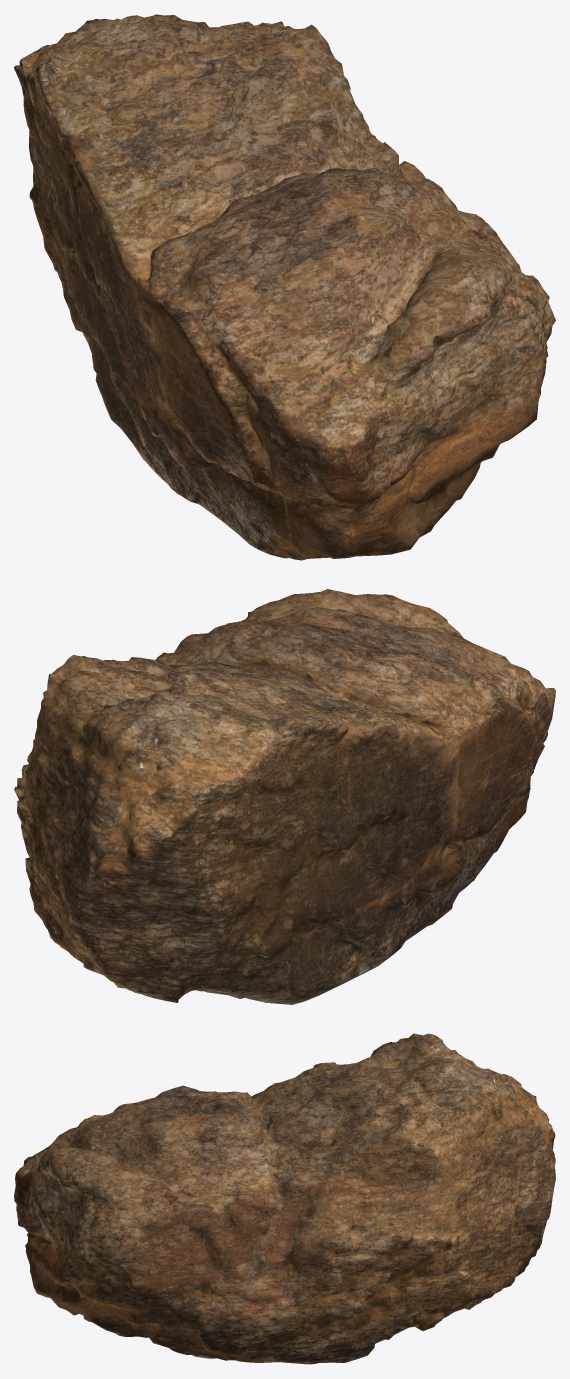
The model's file is prop_boulder_real_c.glb.
The picture shows the model from 3 angles, top to bottom: view 1: azimuth 30°, elevation 25°; view 2: azimuth 150°, elevation 25°; view 3: azimuth 270°, elevation 25°; orthographic projection. The views are drawn at different scales.
Parts seen in each view (by area): view 1: namaqualand_boulder_06; view 2: namaqualand_boulder_06; view 3: namaqualand_boulder_06.
Part boxes in pixels (x1,y1,x2,y2): namaqualand_boulder_06: (14, 14, 555, 560); namaqualand_boulder_06: (14, 589, 555, 1004); namaqualand_boulder_06: (14, 1033, 555, 1364).
Bounding box in the file's own units: 0.6733 × 0.6524 × 1.21.
Materials: 1 (1 with a texture image).
